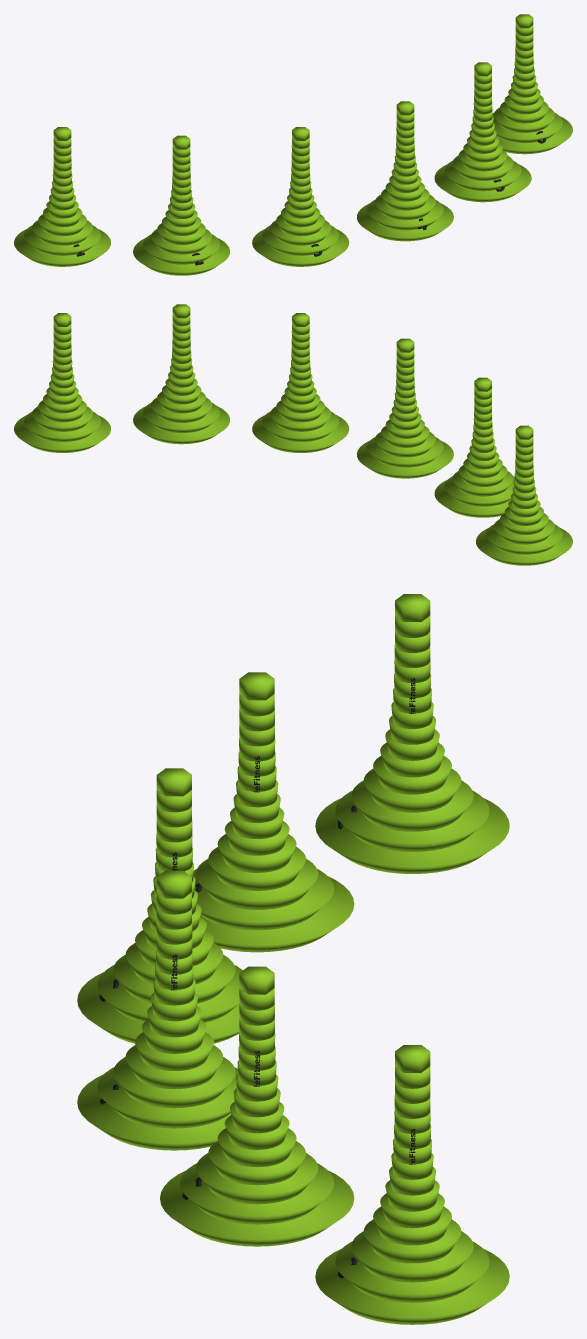
The model's file is life-fitness-speed-cones-set-of-6_v002.glb.
The picture shows the model from 3 angles, top to bottom: view 1: azimuth 30°, elevation 25°; view 2: azimuth 150°, elevation 25°; view 3: azimuth 270°, elevation 25°; orthographic projection. The views are drawn at different scales.
Visible parts, largest first — view 1: life-fitness-speed-cones-set-of-6_lime; view 2: life-fitness-speed-cones-set-of-6_lime; view 3: life-fitness-speed-cones-set-of-6_lime, life-fitness-speed-cones-set-of-6_ink.
Boxes of the visible parts, x1,y1,x2,y2 form: life-fitness-speed-cones-set-of-6_lime: (14, 14, 572, 275); life-fitness-speed-cones-set-of-6_lime: (14, 304, 572, 565); life-fitness-speed-cones-set-of-6_lime: (77, 594, 509, 1324); life-fitness-speed-cones-set-of-6_ink: (99, 678, 415, 1278).
Size of the model in its own units: 1.09 by 0.2291 by 0.3729.
